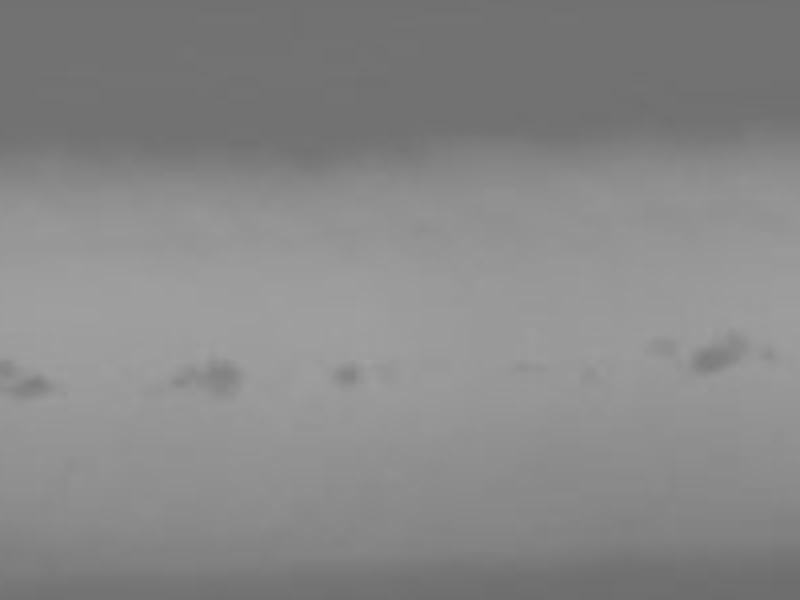defect: (196, 355, 244, 400), (689, 346, 744, 377), (12, 373, 50, 397), (641, 337, 675, 361), (332, 362, 362, 386), (170, 364, 196, 387), (716, 328, 747, 347), (757, 340, 776, 358), (2, 358, 18, 379)
